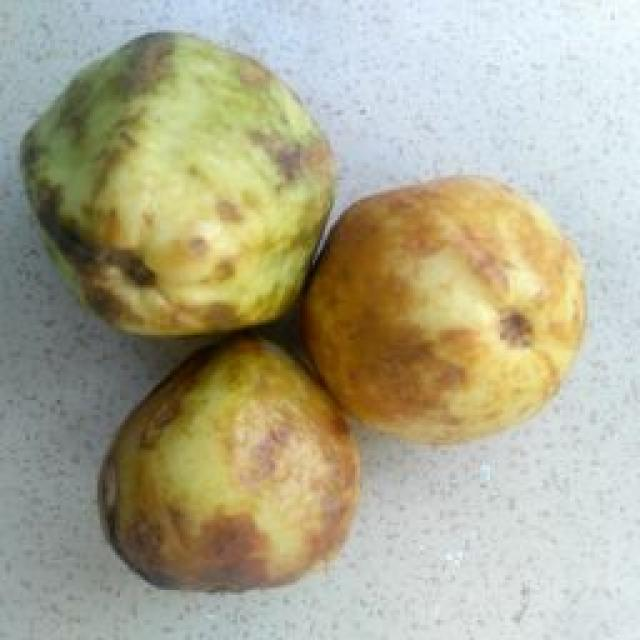Bad_Guava: (21, 32, 335, 334), (99, 338, 359, 589)
